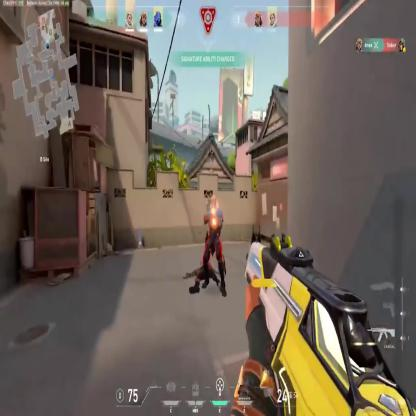enemy: (200, 192, 228, 296)
enemy_head: (210, 195, 217, 210)
